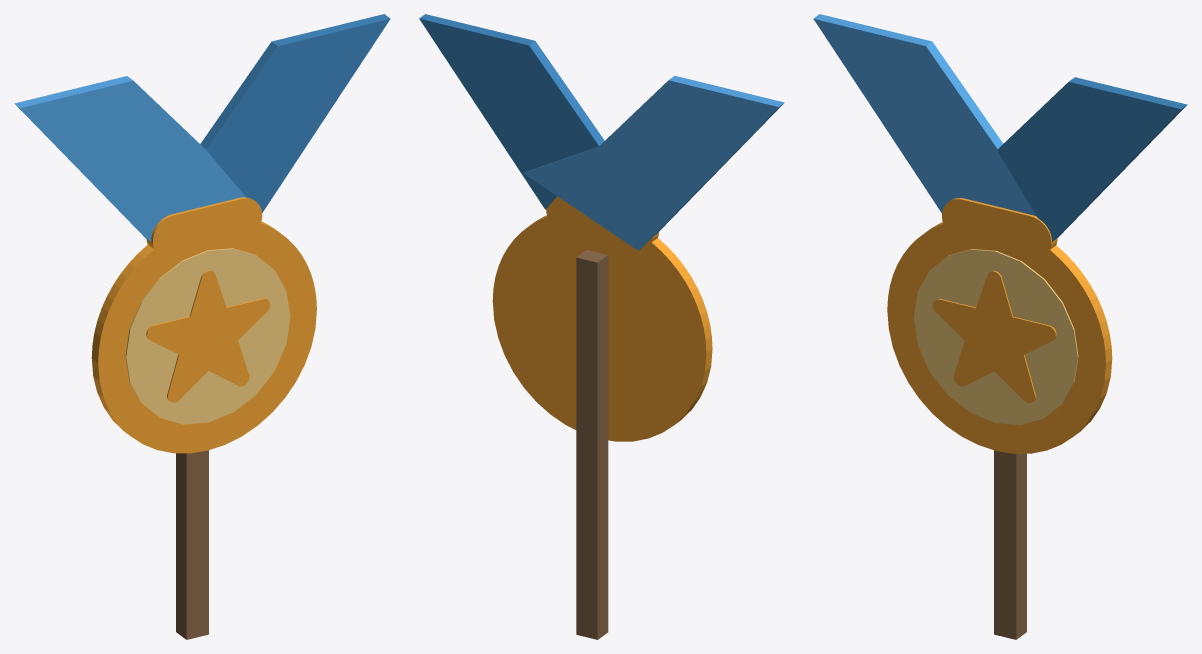
File: medaille.glb
3 renders of one model, left to right at view 1: azimuth 30°, elevation 25°; view 2: azimuth 150°, elevation 25°; view 3: azimuth 330°, elevation 25°, orthographic. The views are drawn at different scales.
Size of the model in its own units: 1 by 1.5 by 0.101.
